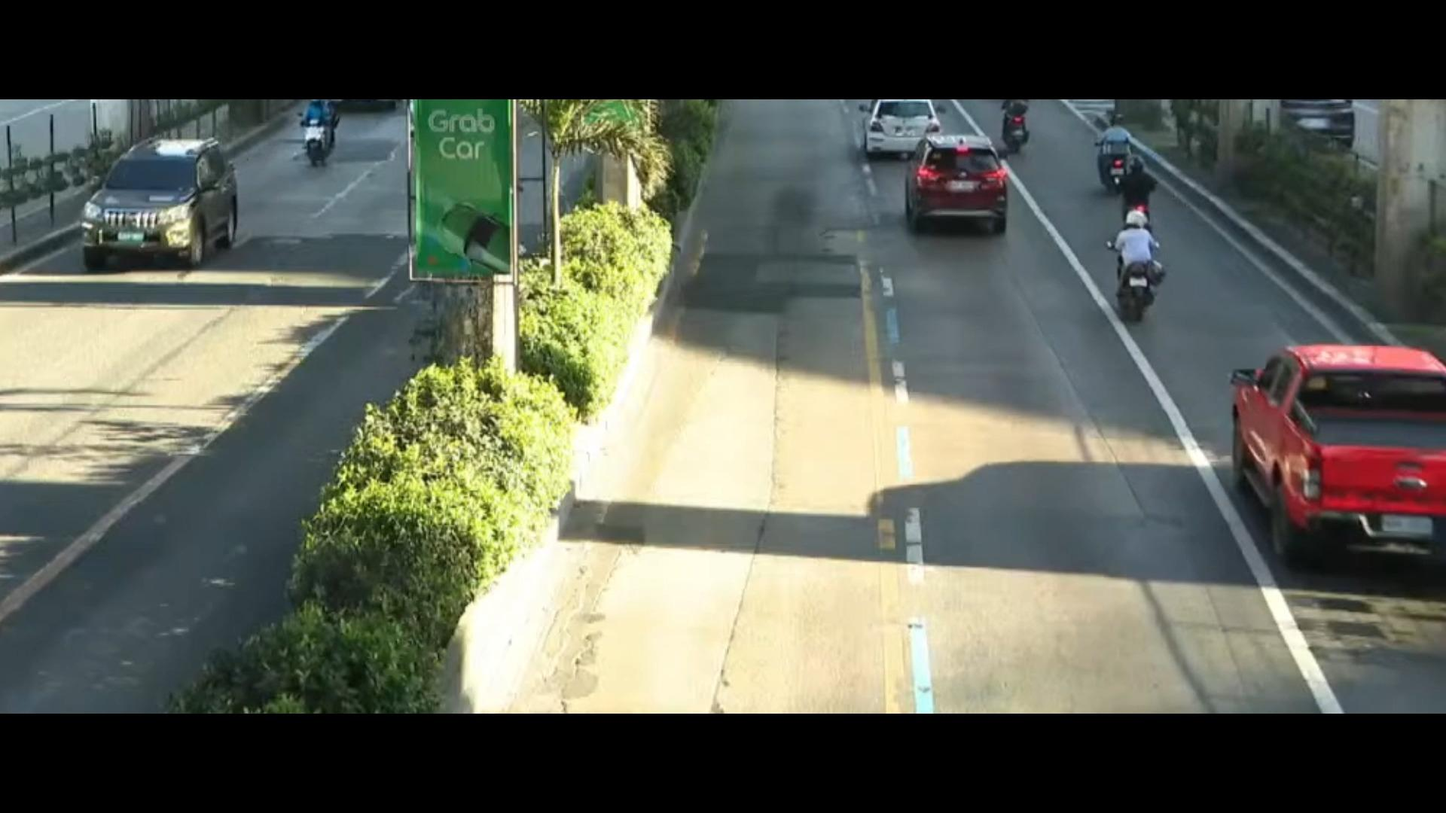Motorcycle: (1082, 179, 1217, 322), (1081, 102, 1160, 190), (275, 104, 349, 175), (997, 98, 1040, 170)
Pickup: (1217, 294, 1446, 583)
SUV: (52, 115, 256, 291), (897, 130, 1034, 235), (855, 96, 950, 162)
